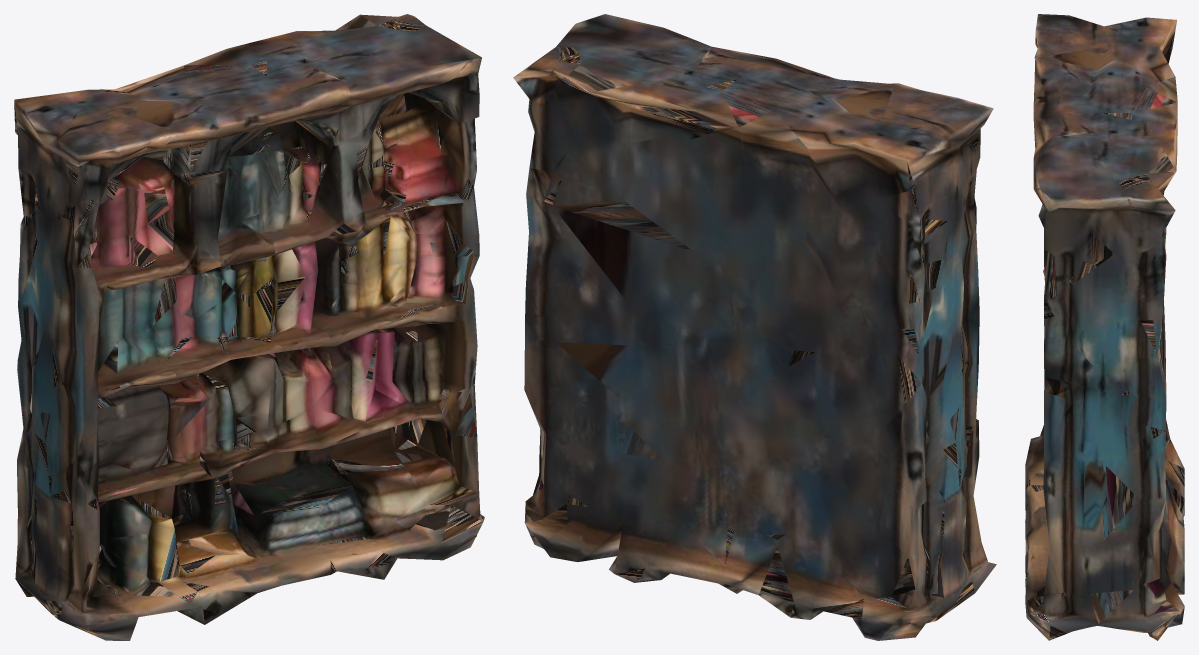
Rendered from lib_bookshelf.far.glb.
3 renders of one model, left to right at view 1: azimuth 30°, elevation 25°; view 2: azimuth 150°, elevation 25°; view 3: azimuth 270°, elevation 25°, orthographic. The views are drawn at different scales.
Size of the model in its own units: 1.68 by 1.9 by 0.6113.
Materials: 1 (1 with a texture image).
